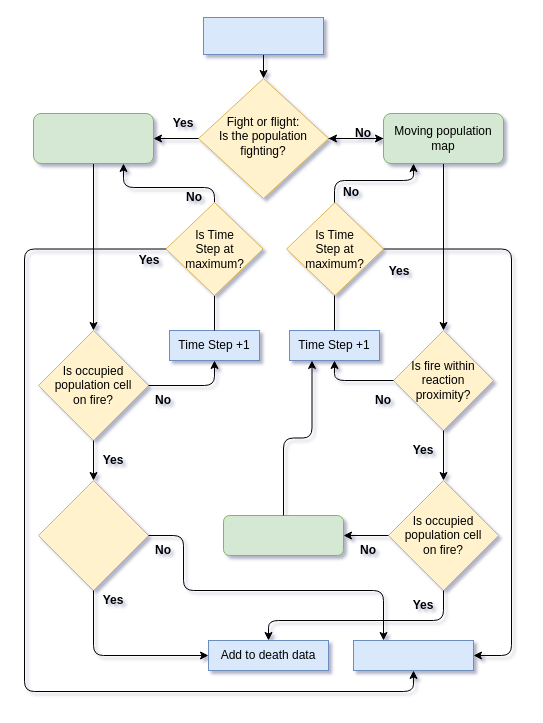
Some shapes in this 543 by 723 pixel diagram are drawn without their labels. Each missing label, with the centre of its shape:
"Add to survival data" goes at pixel 413 655.
"Does the population cell die? (14% chance)" goes at pixel 93 535.
"Fight population map" goes at pixel 93 138.
"Initial population map" goes at pixel 263 35.
"Random reactive movement" goes at pixel 283 535.
